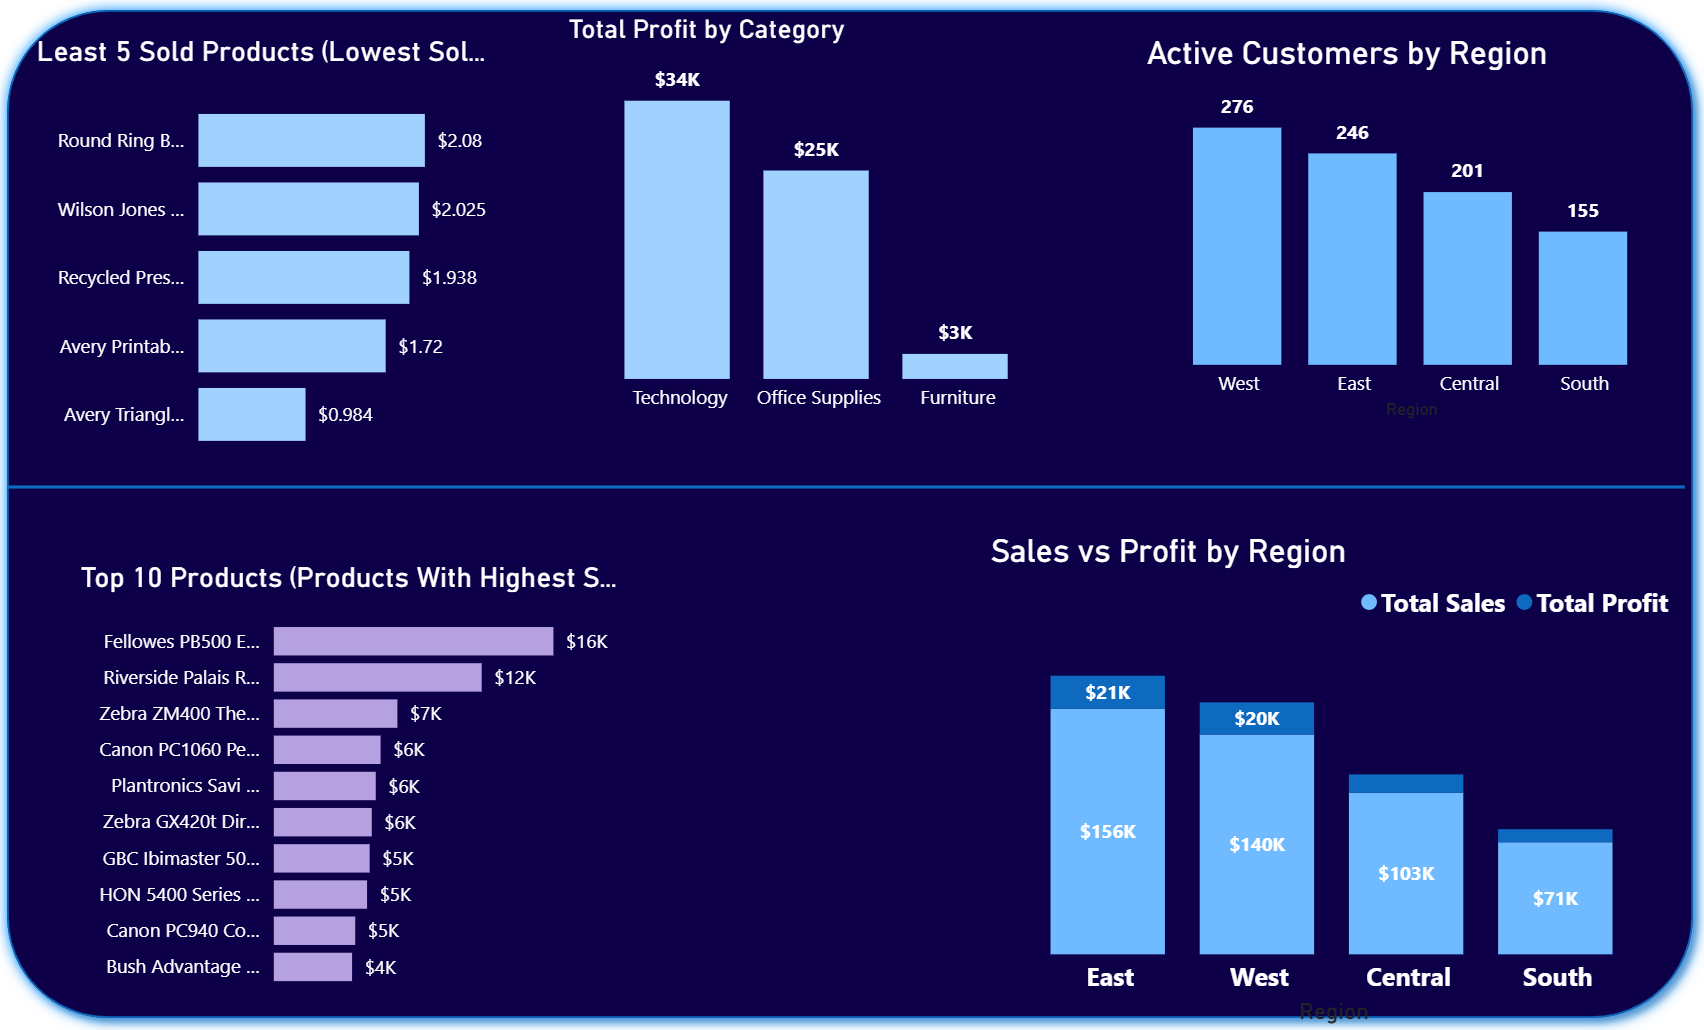

This screenshot's page, from the dashboard's own definition file:
{"tool":"powerbi","page":{"name":"Sales_2","canvas":[1280,720],"ordinal":1},"visuals":[{"type":"shape","box":[168.3,52.3,1092.6,660.4],"z":0},{"type":"clusteredBarChart","title":"Least 5 Sold Products (Lowest Sold Products)","fields":{"Y":["Calculations.Total Sales"],"Category":["Product_dim.Product Name"]},"box":[191.2,76.5,298.3,283],"z":1000},{"type":"clusteredBarChart","title":"Top 10 Products (Products With Highest Sales)","fields":{"Y":["Calculations.Total Sales"],"Category":["Product_dim.Product Name"]},"box":[219.3,411.8,360.8,283],"z":2000},{"type":"clusteredColumnChart","title":"Active Customers by Region","fields":{"Category":["Location_dim.Region"],"Y":["Calculations.Total Cust Sales"]},"box":[898.8,76.5,348,249.9],"z":3000},{"type":"columnChart","title":"Sales vs Profit by Region","fields":{"Category":["Location_dim.Region"],"Y":["Calculations.Total Sales","Calculations.Total Profit"]},"box":[799.4,393.9,447.5,318.7],"z":4000},{"type":"clusteredColumnChart","fields":{"Category":["Product_dim.Category"],"Y":["Calculations.Total Profit"]},"box":[530.4,63.7,328.9,262.6],"z":5000}]}

Visuals, with their boxes on the page's 1280x720 design canvas (x1, y1, x2, y2). These are canvas units, not pixel positions in the 1704x1030 screenshot, which may show the page scaled, cropped or inside an application window:
shape: (168,52,1261,713)
"Least 5 Sold Products (Lowest Sold Products)" clusteredBarChart: (191,76,490,360)
"Top 10 Products (Products With Highest Sales)" clusteredBarChart: (219,412,580,695)
"Active Customers by Region" clusteredColumnChart: (899,76,1247,326)
"Sales vs Profit by Region" columnChart: (799,394,1247,713)
clusteredColumnChart - Product_dim.Category x Calculations.Total Profit: (530,64,859,326)
